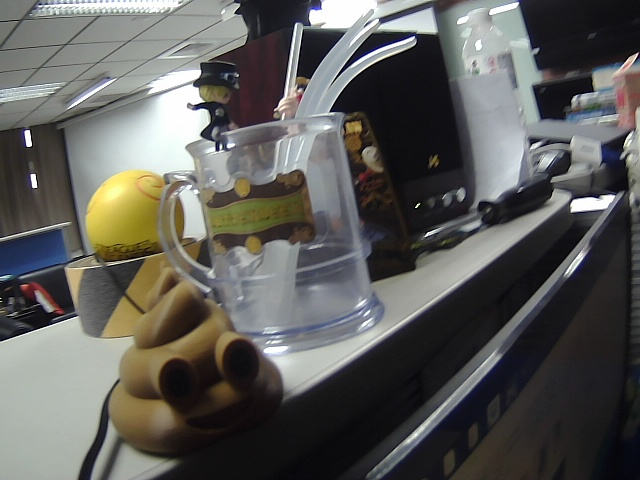shit: (95, 262, 292, 459)
